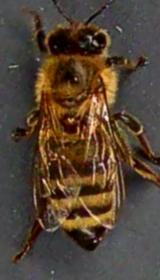varroa_mite: (60, 108, 83, 136)
